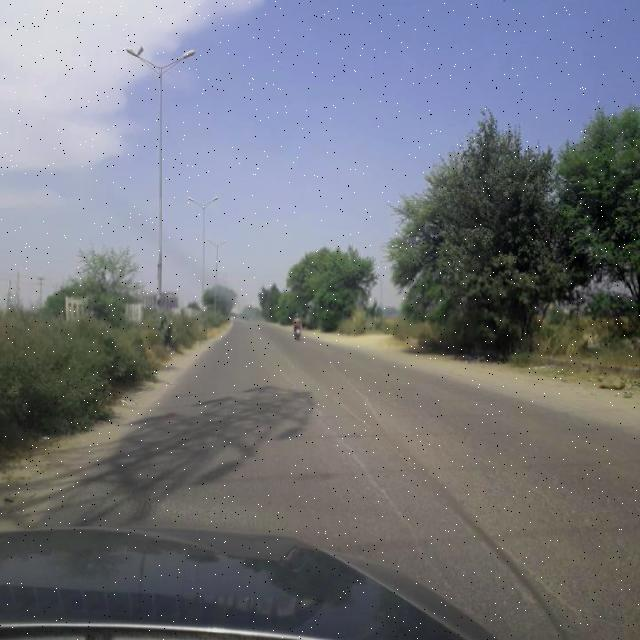D00: (279, 368, 453, 585), (441, 488, 621, 626)
